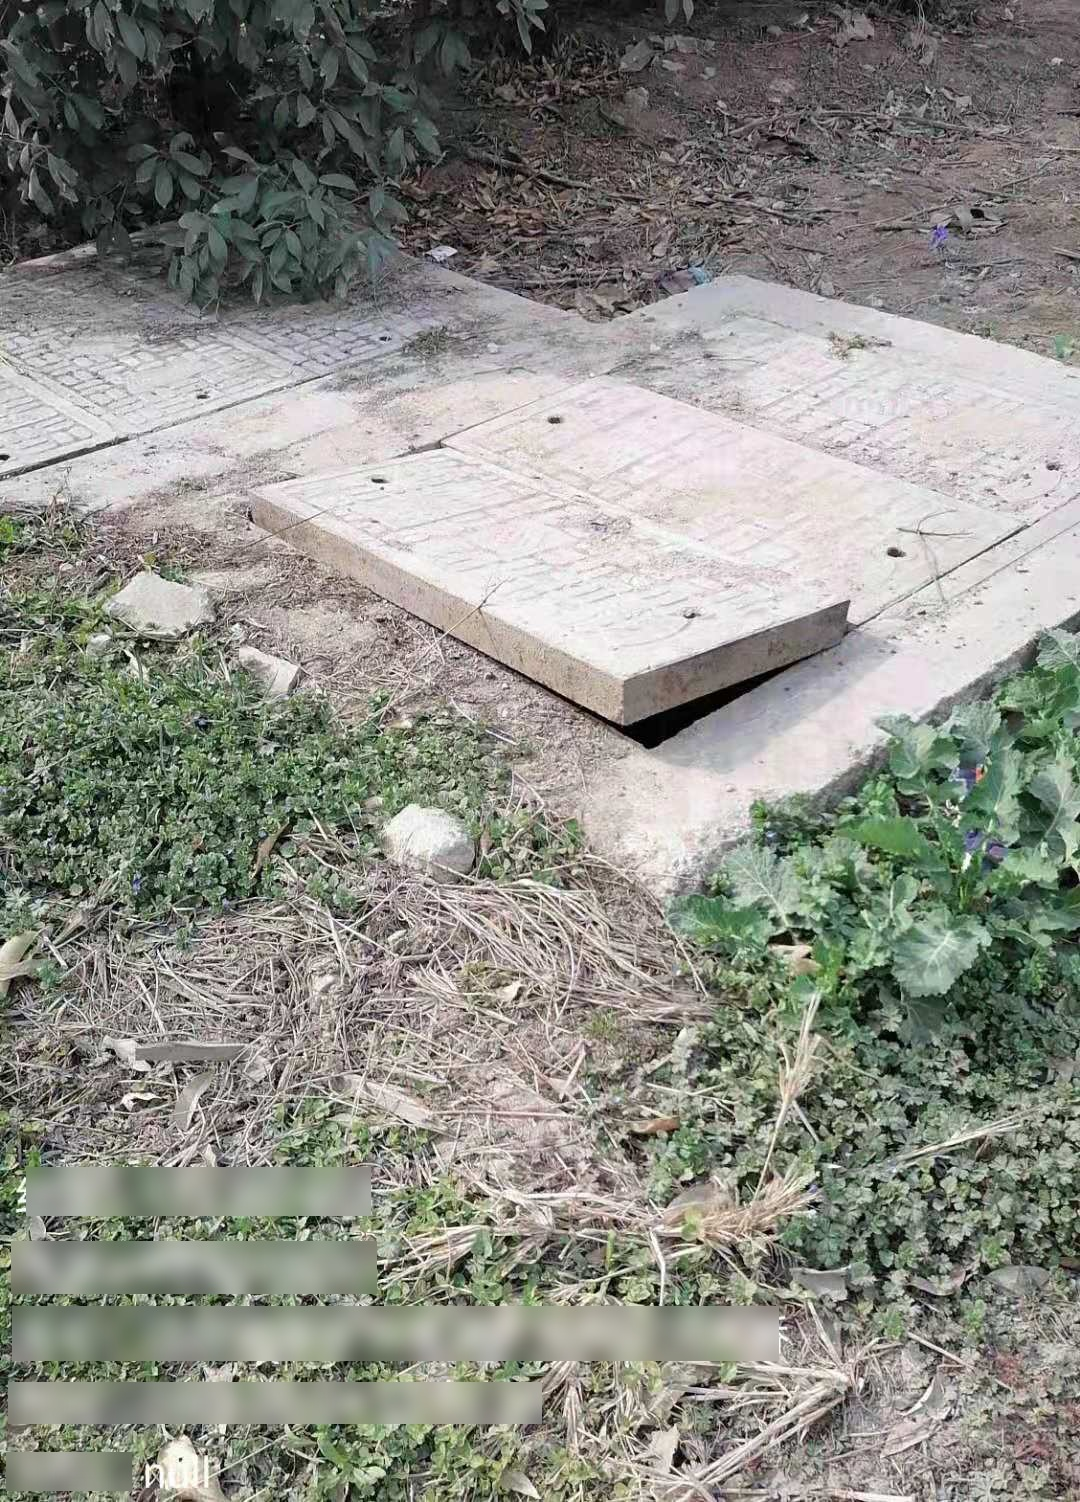good: (1, 190, 461, 477)
uncovered: (222, 289, 1078, 767)
